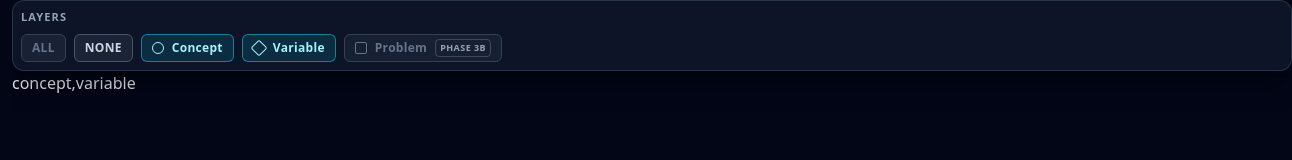
Test: LayerToggleBar › keeps disabled layers off after None then All
Click the button "None" at (103, 48), box x1=74 y1=34 x2=133 y2=62
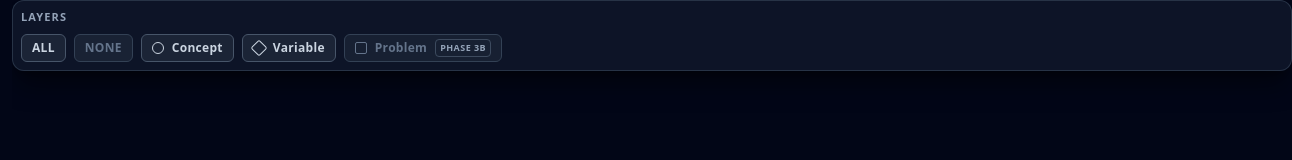
Click the button "All" at (43, 48), box x1=21 y1=34 x2=66 y2=62
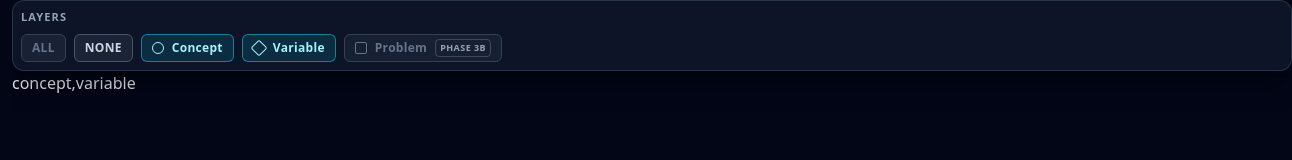
Expected: the button with aria-label "Toggle problem layer" is disabled, x1=344 y1=34 x2=502 y2=62
Now the text with test id "visible-layers" reads "concept,variable", box x1=12 y1=72 x2=136 y2=94
